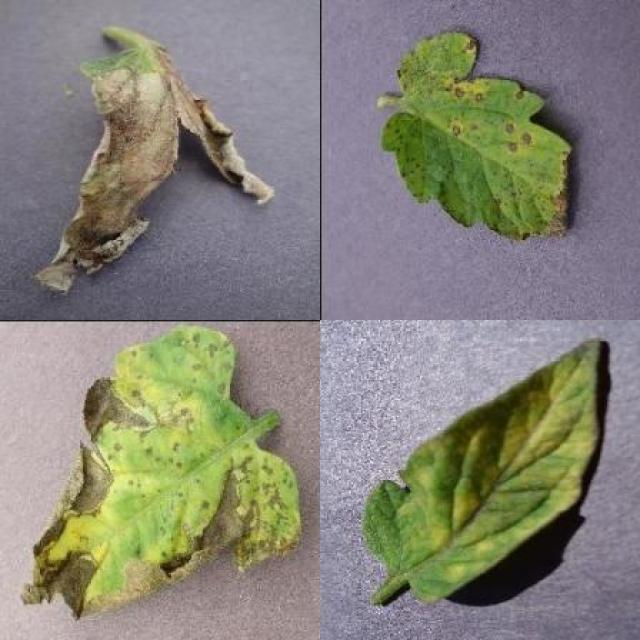Late Blight: (31, 45, 276, 301)
Leaf Mold: (366, 338, 603, 608)
Septoria: (23, 321, 303, 616), (384, 34, 570, 244)
